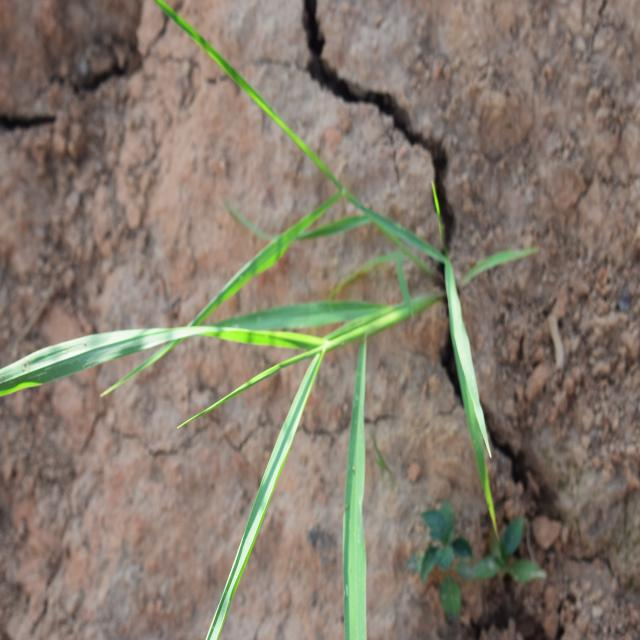green_foxtail: (100, 79, 499, 510)
